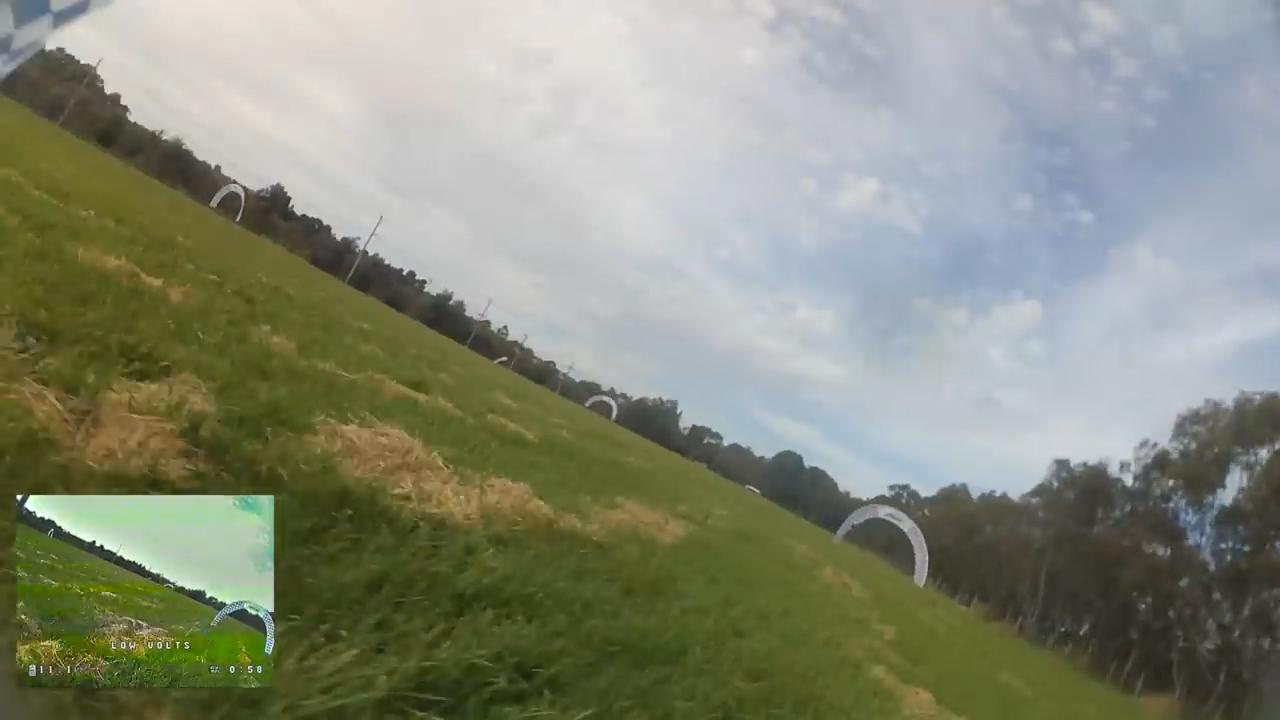gate: (830, 501, 931, 593), (210, 182, 246, 222)
